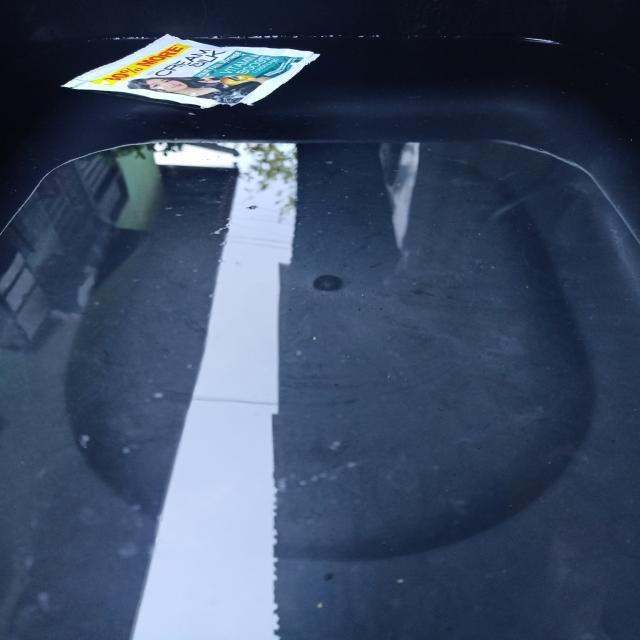Plastic Wrapper: (50, 32, 326, 119)
